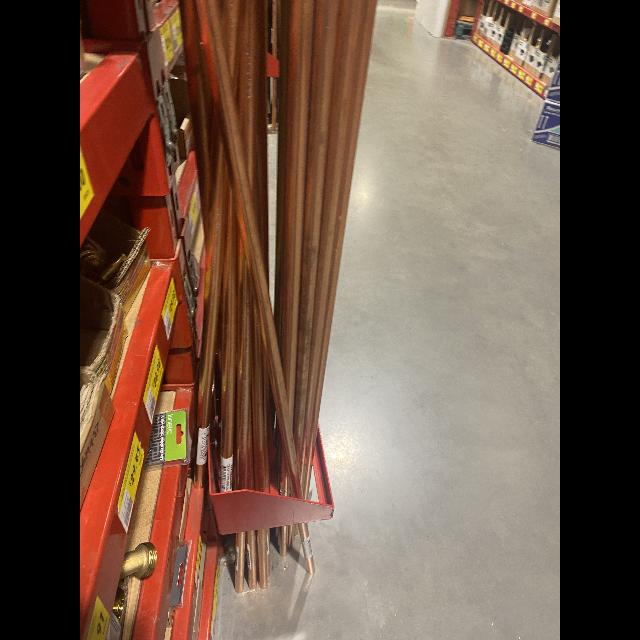Copper: (203, 1, 303, 499), (303, 0, 377, 499), (300, 0, 367, 492), (293, 1, 339, 472), (281, 1, 313, 434), (193, 105, 228, 489), (236, 1, 260, 245), (234, 220, 253, 491), (221, 160, 235, 458), (253, 293, 270, 493), (258, 2, 268, 288), (220, 1, 239, 115), (298, 523, 315, 574), (279, 432, 290, 497), (246, 530, 257, 590), (257, 528, 267, 589), (235, 533, 245, 593), (250, 429, 255, 491), (279, 525, 288, 556), (266, 528, 270, 578), (288, 525, 294, 548), (276, 528, 279, 546), (294, 524, 298, 536)
